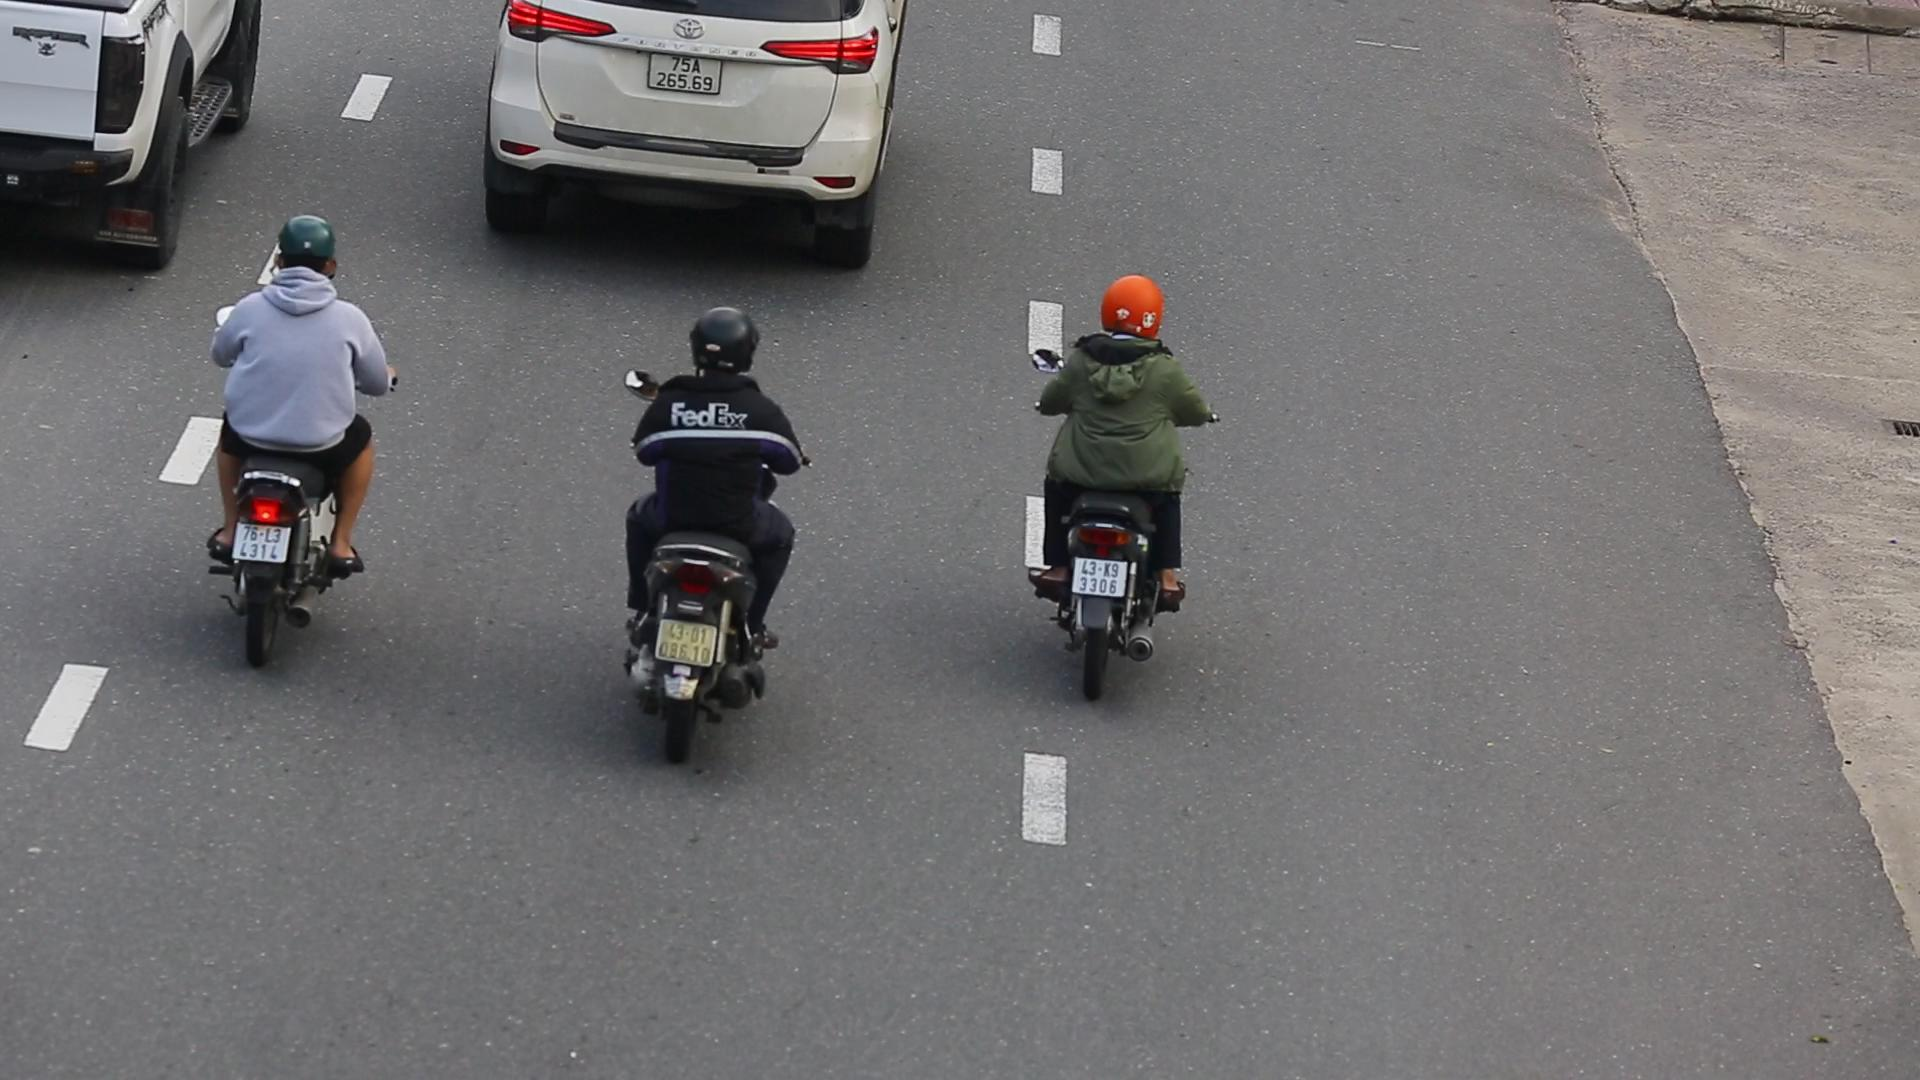motobike: (611, 301, 820, 781), (206, 203, 410, 683), (1013, 273, 1234, 715)
